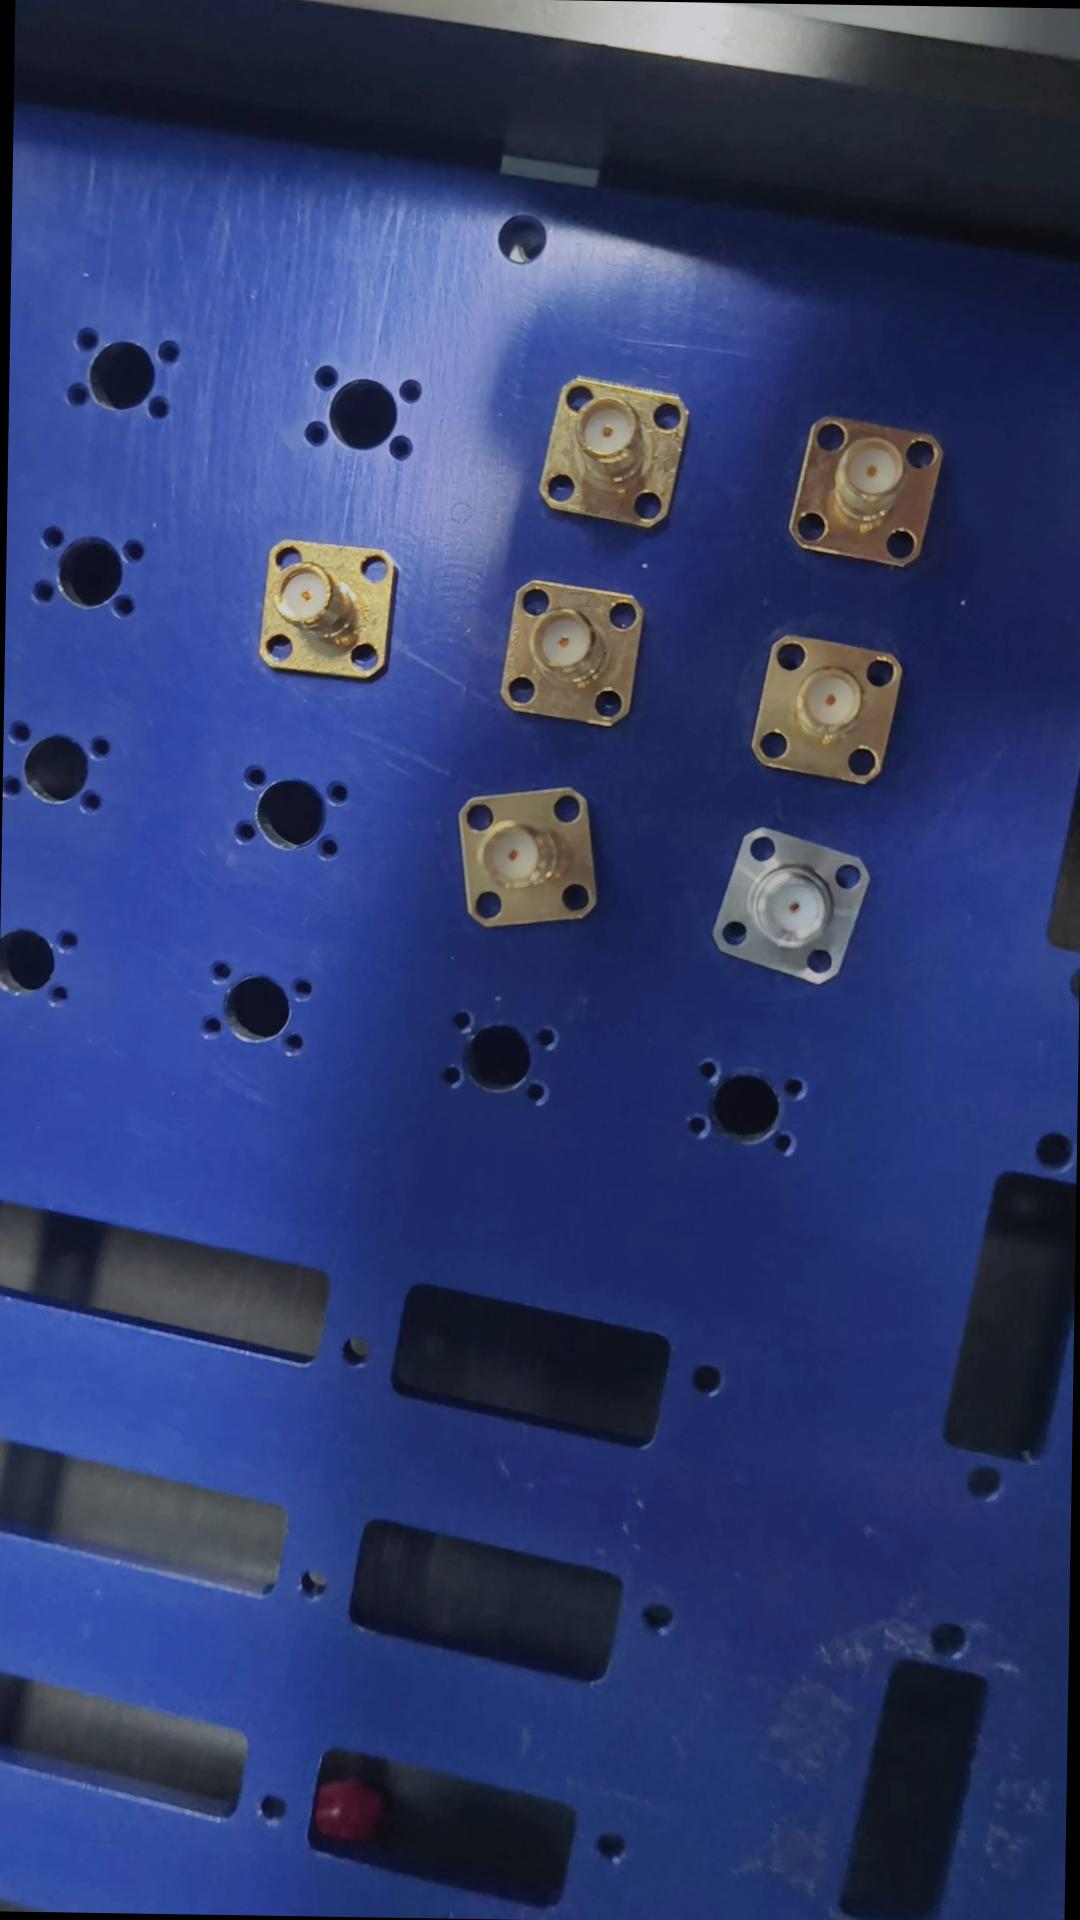SMA: (737, 632, 916, 786), (700, 820, 869, 982), (439, 782, 599, 938), (777, 423, 943, 566), (492, 575, 645, 729), (527, 378, 682, 530), (253, 531, 396, 691)
